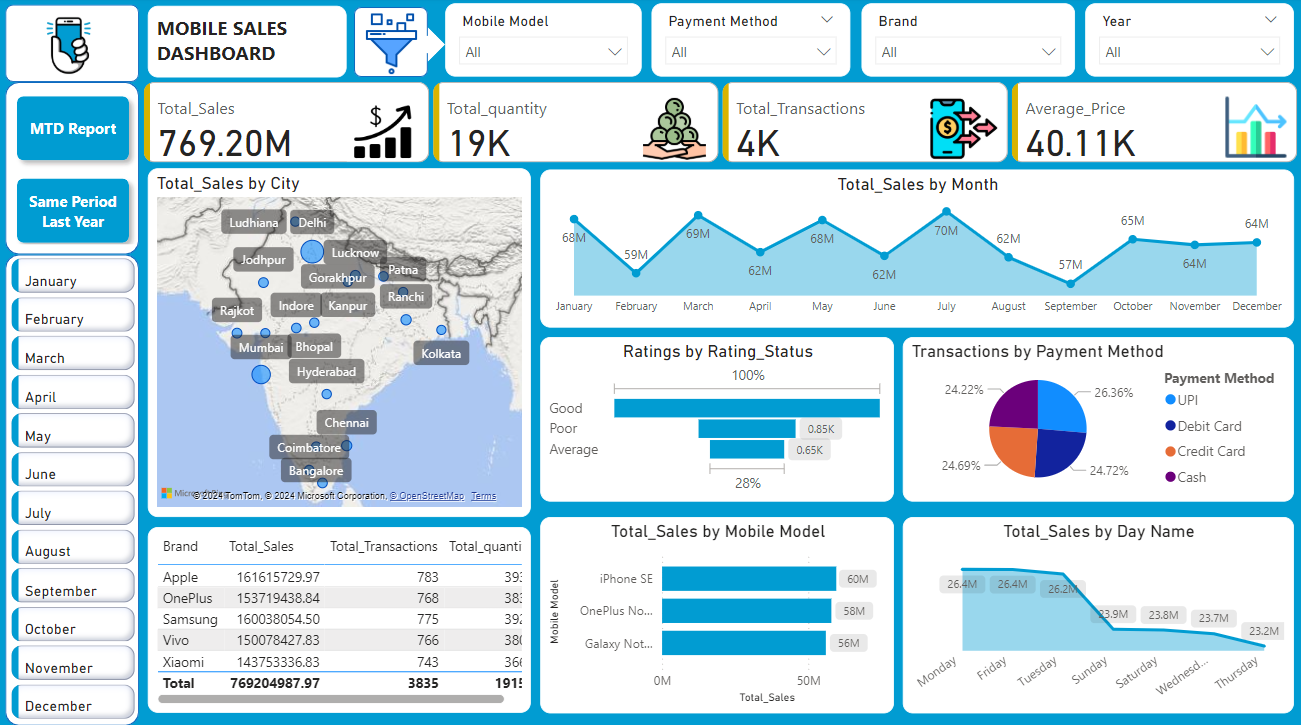

This screenshot's page, from the dashboard's own definition file:
{"tool":"powerbi","page":{"name":"Dashboard","canvas":[1280,720],"ordinal":0},"visuals":[{"type":"shape","box":[6.1,7.4,131.3,76.1],"z":0},{"type":"image","box":[0,6.2,136.2,82.5],"z":1000},{"type":"shape","box":[6.1,83.4,131.3,169.3],"z":2000},{"type":"shape","box":[6.1,252.8,131.3,462.6],"z":3000},{"type":"advancedSlicerVisual","fields":{"Values":["Custom_Calender.Date.Variation.Date Hierarchy.Month"]},"box":[7.4,251.5,131.3,463.8],"z":4000},{"type":"cardVisual","fields":{"Data":["Sales_Data.Total_Sales","Sales_Data.Total_quantity","Sales_Data.Total_Transactions","Sales_Data.Average_Price"]},"box":[137.4,78.5,1142.3,89.6],"z":5000},{"type":"slicer","fields":{"Values":["Sales_Data.Mobile Model"]},"box":[438,6.1,192.6,72.4],"z":6000},{"type":"slicer","fields":{"Values":["Sales_Data.Payment Method"]},"box":[640.5,6.1,195.1,72.4],"z":7000},{"type":"slicer","fields":{"Values":["Sales_Data.Brand"]},"box":[846.6,6.1,209.8,72.4],"z":8000},{"type":"shape","box":[348.8,10,72.5,68.8],"z":9000},{"type":"shape","box":[402.5,29.4,35.6,34.4],"z":10000},{"type":"image","box":[350,0,71.2,92.5],"z":11000},{"type":"textbox","box":[146.2,8.8,195,70],"z":12000},{"type":"map","fields":{"Category":["Sales_Data.City"],"Size":["Sales_Data.Total_Sales"]},"box":[146.2,167.5,376.2,342.5],"z":13000},{"type":"lineChart","fields":{"Y":["Sales_Data.Total_Sales"],"Category":["Custom_Calender.Date.Variation.Date Hierarchy.Month"]},"box":[531.2,168.8,740,155],"z":14000},{"type":"funnel","title":"Ratings by Rating_Status","fields":{"Y":["CountNonNull(Sales_Data.Customer Age)"],"Category":["Sales_Data.Rating_Status"]},"box":[531.2,333.8,347.5,161.2],"z":15000},{"type":"pieChart","title":"Transactions by Payment Method","fields":{"Y":["Sales_Data.Total_Transactions"],"Category":["Sales_Data.Payment Method"]},"box":[887.5,333.8,383.8,161.2],"z":16000},{"type":"clusteredBarChart","fields":{"Category":["Sales_Data.Mobile Model"],"Y":["Sales_Data.Total_Sales"]},"box":[531.2,510,347.5,192.5],"z":17000},{"type":"areaChart","fields":{"Category":["Custom_Calender.Day Name"],"Y":["Sales_Data.Total_Sales"]},"box":[887.5,510,383.8,192.5],"z":18000},{"type":"tableEx","fields":{"Values":["Sales_Data.Brand","Sales_Data.Total_Sales","Sales_Data.Total_Transactions","Sales_Data.Total_quantity"]},"box":[146.2,520,376.2,182.5],"z":19000},{"type":"pageNavigator","box":[8.6,88.3,128.8,155.8],"z":19001},{"type":"slicer","fields":{"Values":["Custom_Calender.Date.Variation.Date Hierarchy.Year"]},"box":[1066.3,6.1,204.9,72.4],"z":19002}]}

Visuals, with their boxes in screenshot pixels (x1, y1, x2, y2), scaled from the page's 1280x720 canvas onto the 1301x725 screenshot:
shape: <region>6, 7, 140, 84</region>
image: <region>0, 6, 138, 89</region>
shape: <region>6, 84, 140, 254</region>
shape: <region>6, 255, 140, 720</region>
advancedSlicerVisual - Custom_Calender.Date.Variation.Date Hierarchy.Month: <region>8, 253, 141, 720</region>
cardVisual - Sales_Data.Total_Sales x Sales_Data.Total_quantity: <region>140, 79, 1300, 169</region>
slicer - Sales_Data.Mobile Model: <region>445, 6, 641, 79</region>
slicer - Sales_Data.Payment Method: <region>651, 6, 849, 79</region>
slicer - Sales_Data.Brand: <region>860, 6, 1074, 79</region>
shape: <region>355, 10, 428, 79</region>
shape: <region>409, 30, 445, 64</region>
image: <region>356, 0, 428, 93</region>
textbox: <region>149, 9, 347, 79</region>
map - Sales_Data.City x Sales_Data.Total_Sales: <region>149, 169, 531, 514</region>
lineChart - Sales_Data.Total_Sales x Custom_Calender.Date.Variation.Date Hierarchy.Month: <region>540, 170, 1292, 326</region>
"Ratings by Rating_Status" funnel: <region>540, 336, 893, 498</region>
"Transactions by Payment Method" pieChart: <region>902, 336, 1292, 498</region>
clusteredBarChart - Sales_Data.Mobile Model x Sales_Data.Total_Sales: <region>540, 514, 893, 707</region>
areaChart - Custom_Calender.Day Name x Sales_Data.Total_Sales: <region>902, 514, 1292, 707</region>
tableEx - Sales_Data.Brand x Sales_Data.Total_Sales: <region>149, 524, 531, 707</region>
pageNavigator: <region>9, 89, 140, 246</region>
slicer - Custom_Calender.Date.Variation.Date Hierarchy.Year: <region>1084, 6, 1292, 79</region>
